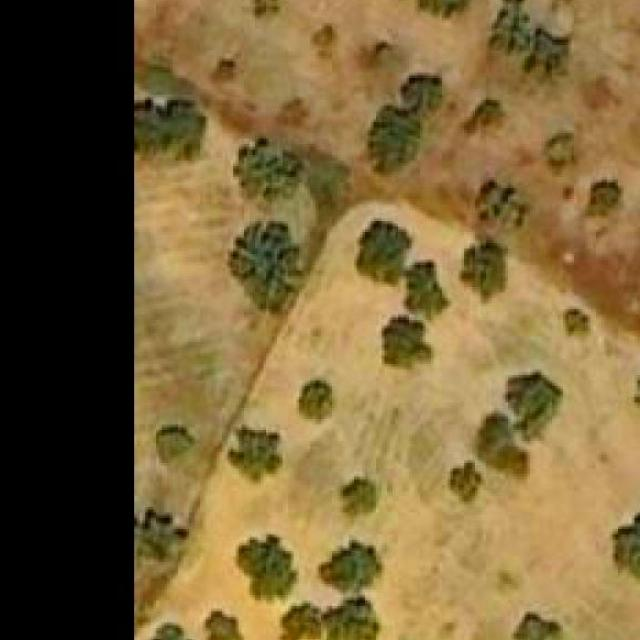Tree: (230, 218, 304, 314), (488, 0, 571, 76), (232, 136, 301, 206), (136, 92, 206, 158), (235, 534, 296, 600), (370, 109, 426, 178), (353, 218, 411, 282), (457, 179, 527, 232), (504, 372, 560, 436), (400, 260, 453, 321), (321, 540, 385, 589), (477, 411, 527, 472), (457, 241, 505, 301), (228, 428, 280, 483), (136, 510, 186, 558), (326, 598, 382, 640), (613, 493, 640, 576), (384, 318, 428, 365), (296, 378, 334, 426), (404, 69, 446, 111), (339, 479, 382, 518), (460, 100, 502, 139), (585, 177, 624, 219), (153, 424, 195, 463), (280, 603, 324, 640), (514, 611, 566, 640), (450, 460, 483, 504), (543, 131, 576, 175), (312, 23, 340, 70), (202, 609, 241, 640), (136, 622, 195, 640), (420, 0, 475, 15), (565, 309, 591, 340), (250, 0, 280, 21), (635, 352, 640, 424)
